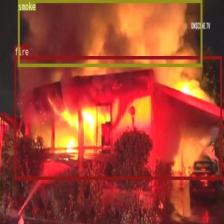fire: (14, 56, 222, 178)
smoke: (17, 0, 201, 66)
